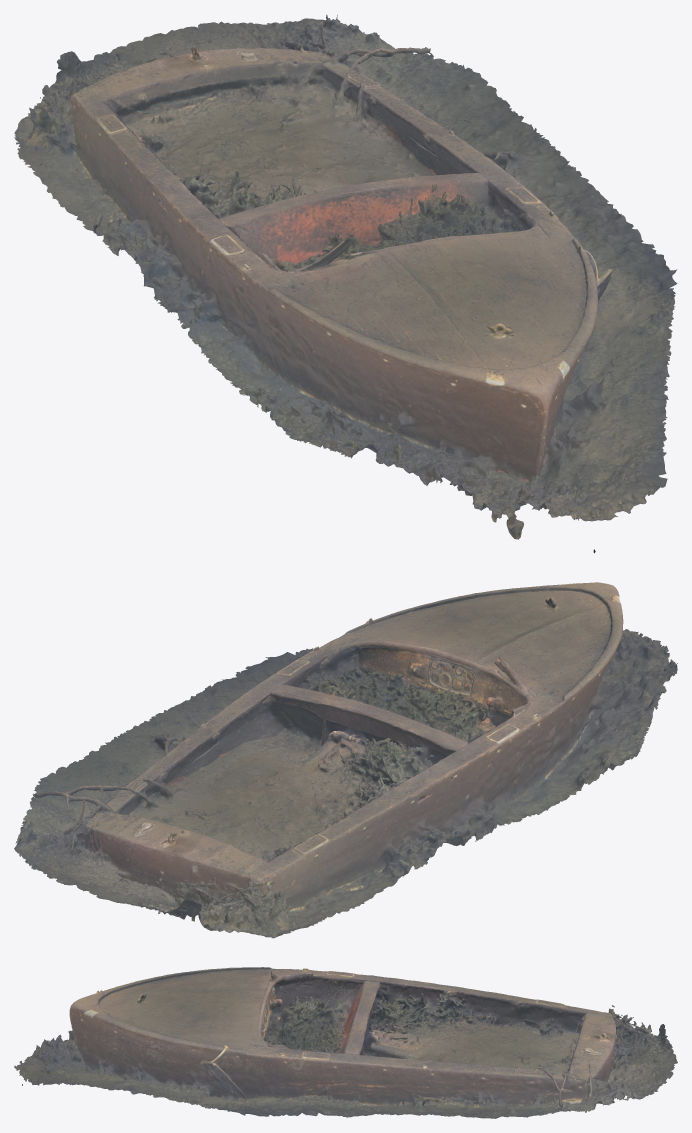
The model's file is inland_sea_lake_champlain_vintage_garwood.glb.
The picture shows the model from 3 angles, top to bottom: view 1: azimuth 30°, elevation 25°; view 2: azimuth 150°, elevation 25°; view 3: azimuth 270°, elevation 25°; orthographic projection. The views are drawn at different scales.
Parts seen in each view (by area): view 1: Object_2, Object_3; view 2: Object_2, Object_3; view 3: Object_2, Object_3.
Boxes of the visible parts, x1=… form: Object_2: x1=14, y1=14, x2=677, y2=553; Object_3: x1=27, y1=97, x2=673, y2=539; Object_2: x1=14, y1=582, x2=674, y2=938; Object_3: x1=68, y1=586, x2=677, y2=919; Object_2: x1=14, y1=967, x2=677, y2=1118; Object_3: x1=21, y1=975, x2=580, y2=1118.
Bounding box in the file's own units: 41.4 × 15.04 × 86.83.
Materials: 1 (1 with a texture image).
